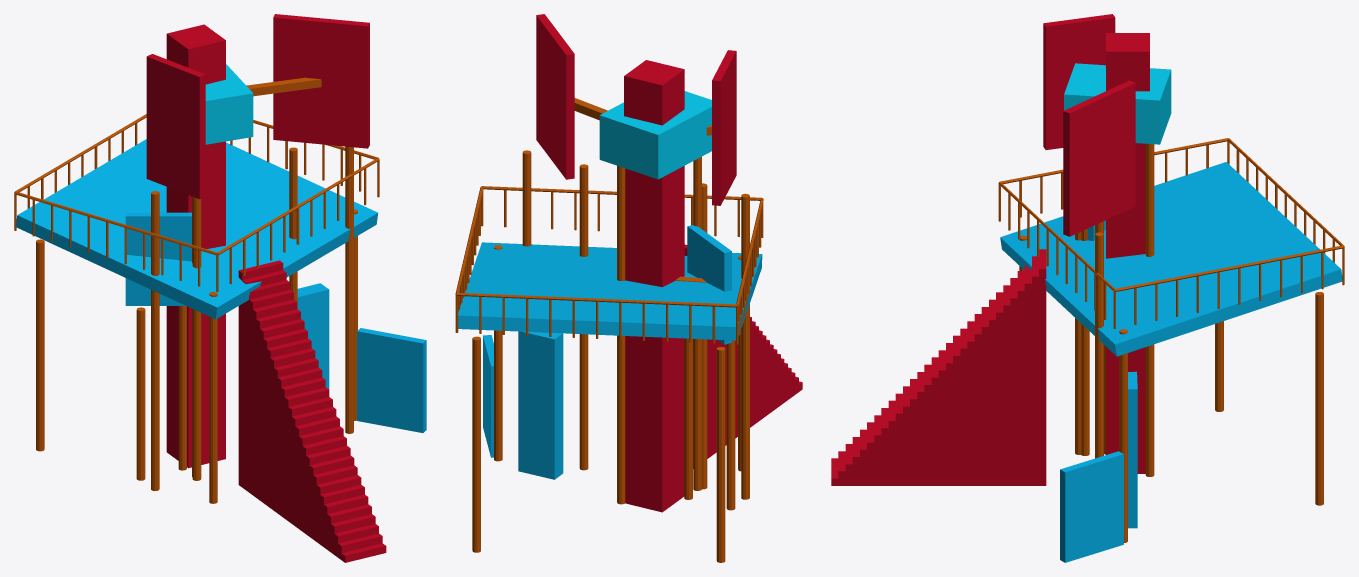
The model's file is folie_tag_073.glb.
3 views of the same model, side by side, from view 1: azimuth 30°, elevation 25°; view 2: azimuth 150°, elevation 25°; view 3: azimuth 270°, elevation 25° (orthographic).
Parts seen in each view (by area): view 1: folie_tag_073_stairs, folie_tag_073_00_plate, folie_tag_073_line, folie_tag_073_01_panel, folie_tag_073_core, folie_tag_073_03_panel, folie_tag_073_06_panel, folie_tag_073_05_panel, folie_tag_073_02_block, folie_tag_073_04_fin; view 2: folie_tag_073_line, folie_tag_073_core, folie_tag_073_00_plate, folie_tag_073_04_fin, folie_tag_073_02_block, folie_tag_073_01_panel, folie_tag_073_stairs, folie_tag_073_03_panel, folie_tag_073_05_panel, folie_tag_073_06_panel; view 3: folie_tag_073_00_plate, folie_tag_073_stairs, folie_tag_073_line, folie_tag_073_01_panel, folie_tag_073_core, folie_tag_073_06_panel, folie_tag_073_03_panel, folie_tag_073_02_block, folie_tag_073_04_fin.
Part boxes in pixels (box(x1,y1,x2,y2)): folie_tag_073_stairs: box(238, 260, 386, 562); folie_tag_073_00_plate: box(16, 139, 378, 319); folie_tag_073_line: box(14, 77, 379, 503); folie_tag_073_01_panel: box(273, 14, 369, 148); folie_tag_073_core: box(166, 24, 225, 468); folie_tag_073_03_panel: box(146, 54, 205, 199); folie_tag_073_06_panel: box(357, 328, 426, 432); folie_tag_073_05_panel: box(125, 212, 191, 305); folie_tag_073_02_block: box(205, 64, 253, 144); folie_tag_073_04_fin: box(297, 283, 329, 389); folie_tag_073_line: box(455, 98, 763, 562); folie_tag_073_core: box(624, 60, 684, 512); folie_tag_073_00_plate: box(458, 242, 762, 340); folie_tag_073_04_fin: box(518, 331, 563, 479); folie_tag_073_02_block: box(599, 91, 711, 179); folie_tag_073_01_panel: box(536, 14, 574, 179); folie_tag_073_stairs: box(684, 244, 802, 468); folie_tag_073_03_panel: box(712, 50, 736, 205); folie_tag_073_05_panel: box(687, 225, 731, 344); folie_tag_073_06_panel: box(483, 335, 493, 457); folie_tag_073_00_plate: box(1000, 162, 1342, 356); folie_tag_073_stairs: box(831, 249, 1046, 485); folie_tag_073_line: box(998, 138, 1344, 542); folie_tag_073_01_panel: box(1063, 80, 1135, 236); folie_tag_073_core: box(1106, 33, 1149, 473); folie_tag_073_06_panel: box(1060, 451, 1123, 562); folie_tag_073_03_panel: box(1043, 14, 1115, 149); folie_tag_073_02_block: box(1064, 63, 1171, 144); folie_tag_073_04_fin: box(1128, 371, 1137, 528).
Size of the model in its own units: 9.7 by 11.71 by 12.9.
